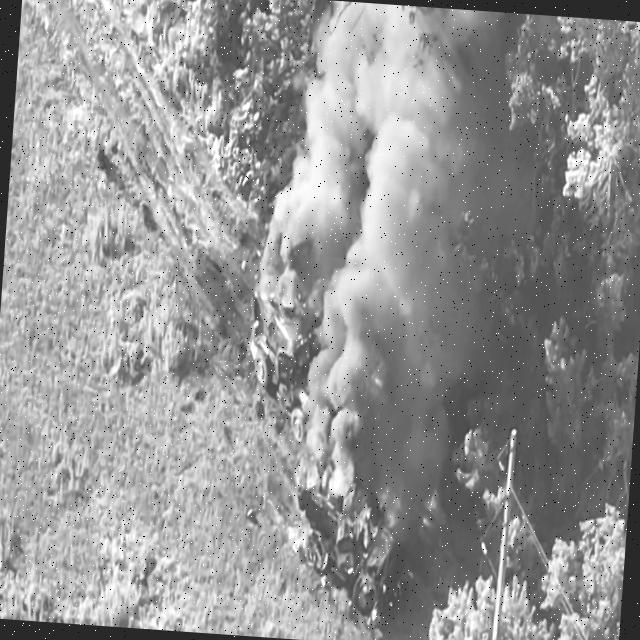Destroyed: (241, 260, 342, 449), (291, 448, 403, 604)
